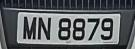7: (86, 17, 102, 43)
8: (57, 16, 72, 43), (72, 17, 87, 43)
9: (100, 16, 114, 43)
M: (22, 14, 37, 44)
N: (37, 15, 53, 43)
